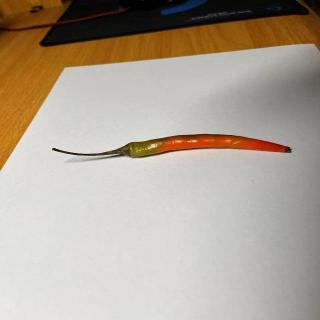Cabai Merah: (52, 134, 291, 158)
